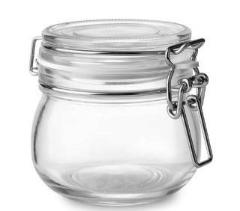glass: (29, 20, 209, 211)
